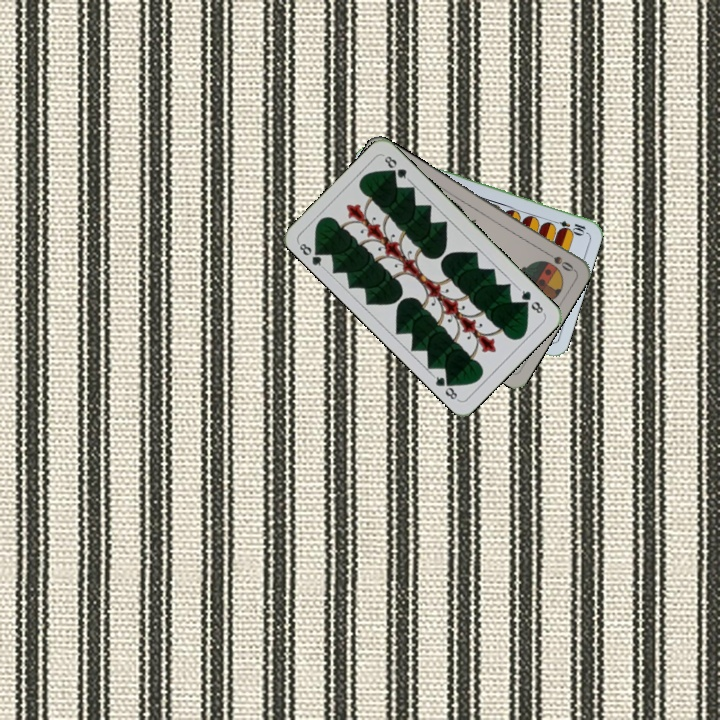E10: (548, 216, 588, 236)
G8: (294, 238, 327, 271), (515, 285, 547, 317)
SO: (539, 247, 576, 274)
